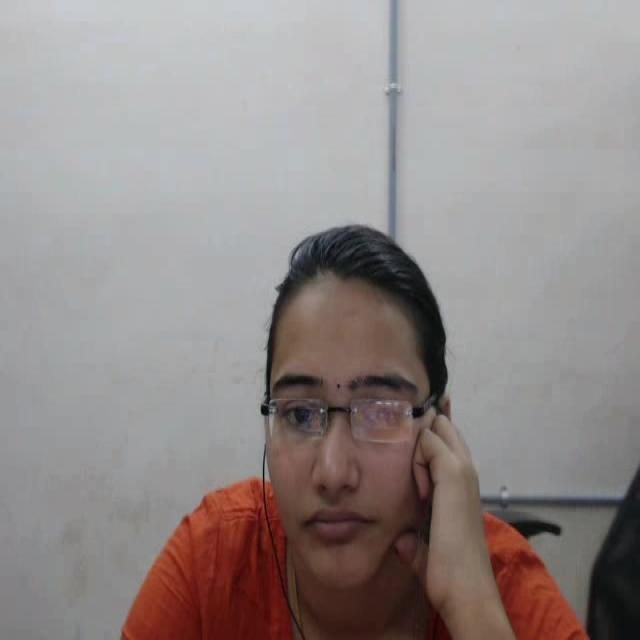Bored: (216, 218, 458, 624)
